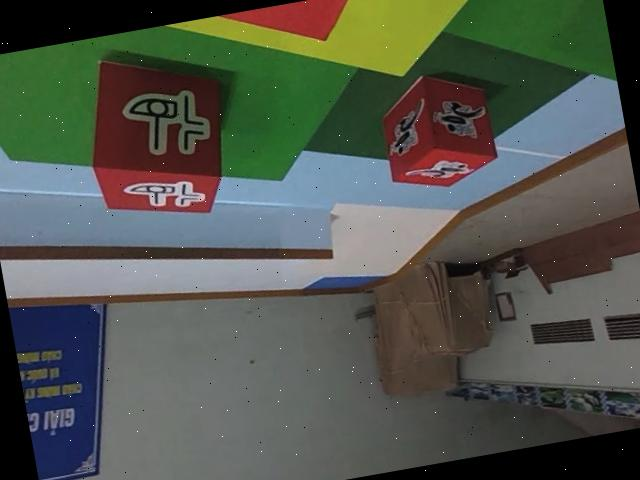R1: (374, 64, 504, 194)
R2 Real: (73, 38, 242, 231)
